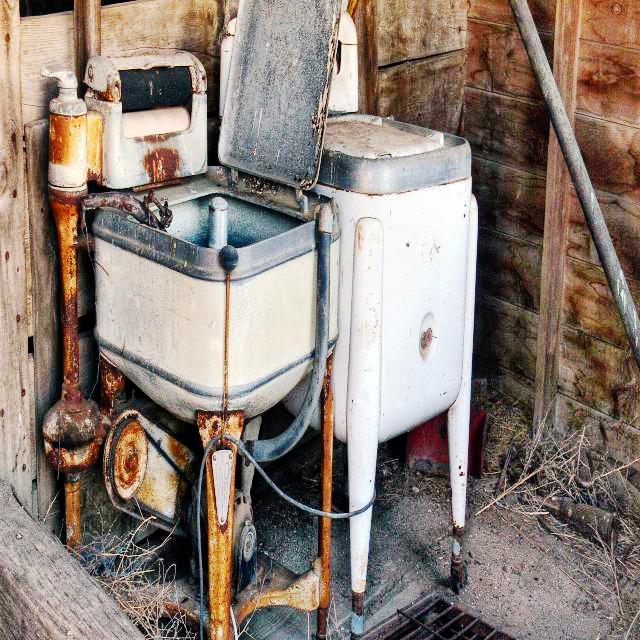Corrosion: (41, 111, 335, 639)
